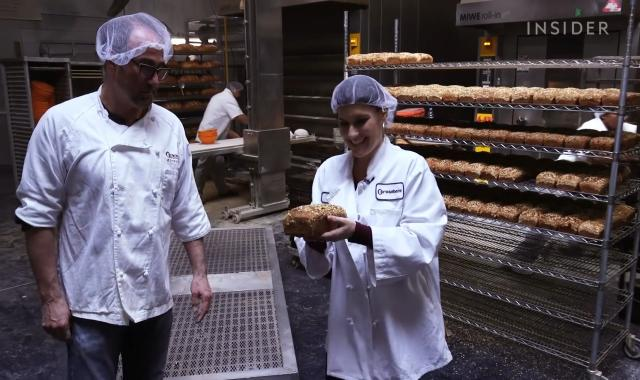hairnet: (96, 12, 170, 66), (327, 76, 398, 112), (227, 78, 244, 93)
